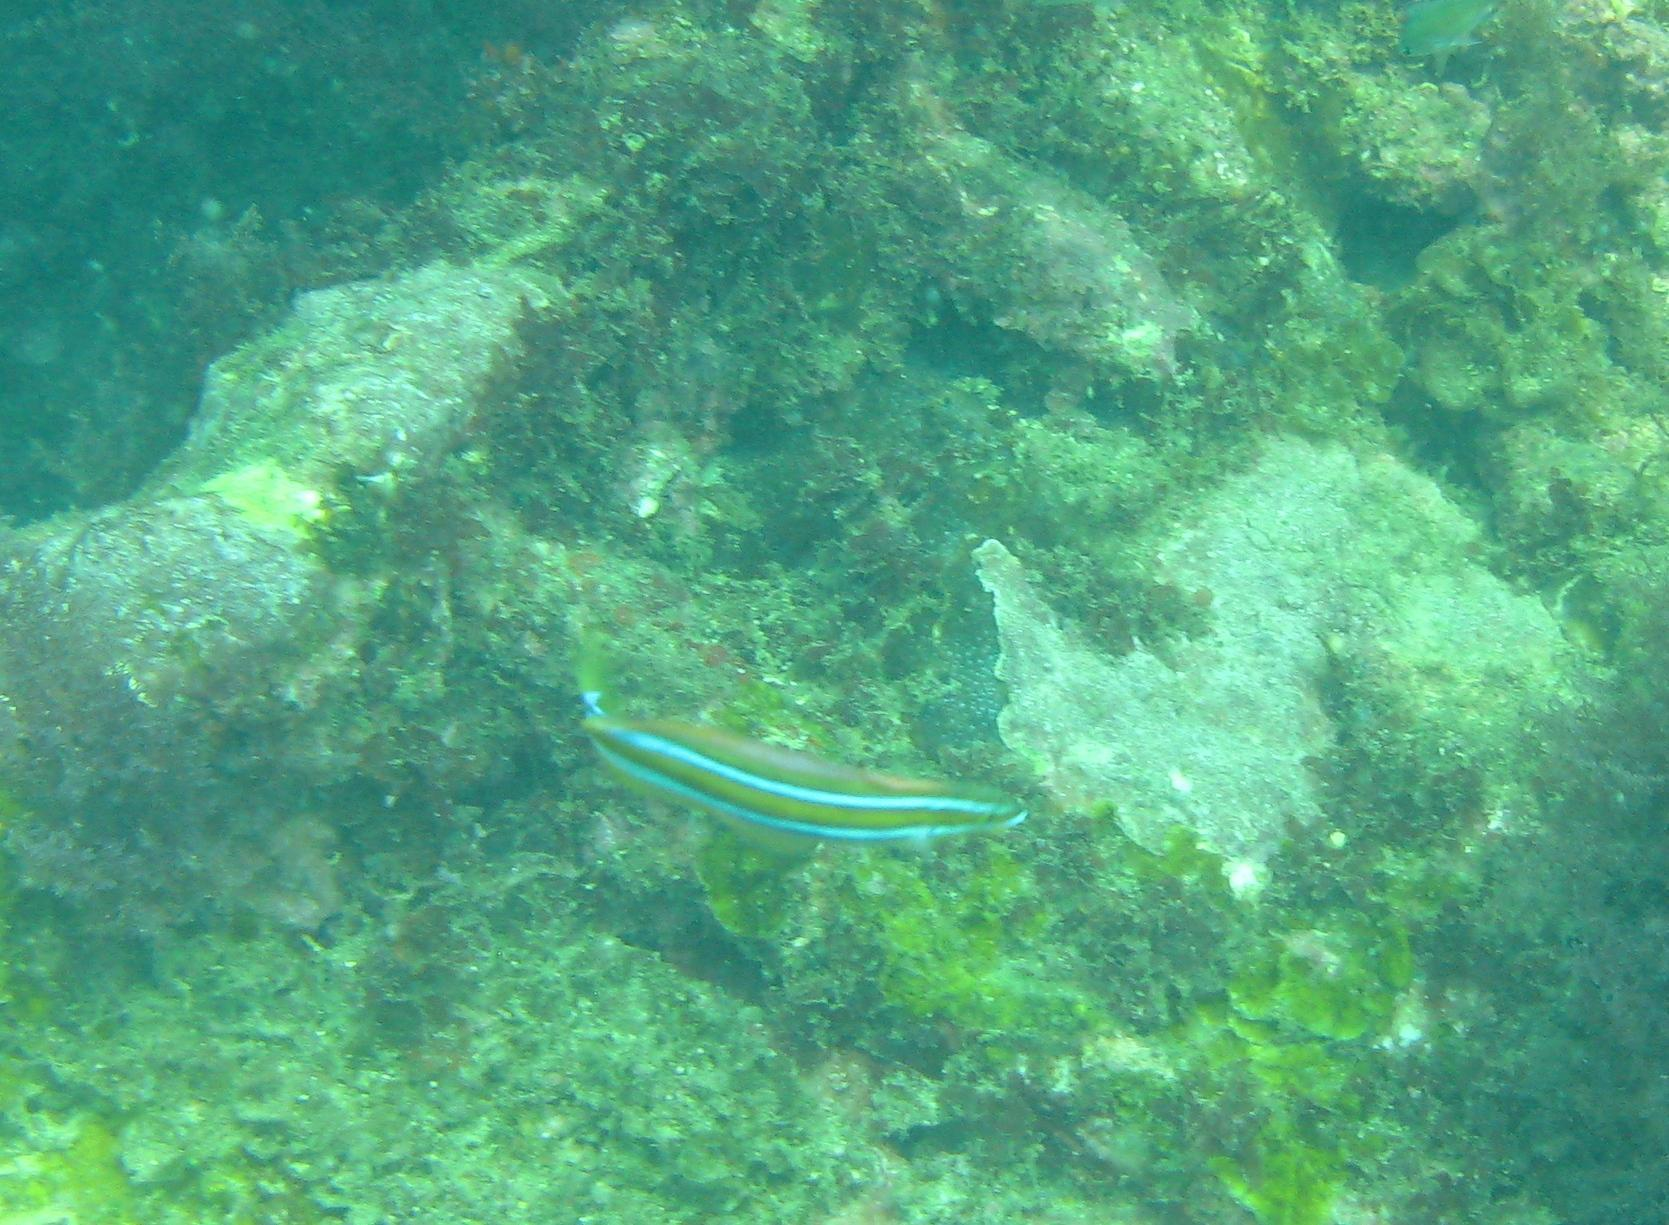Fish: (534, 586, 1171, 906)
